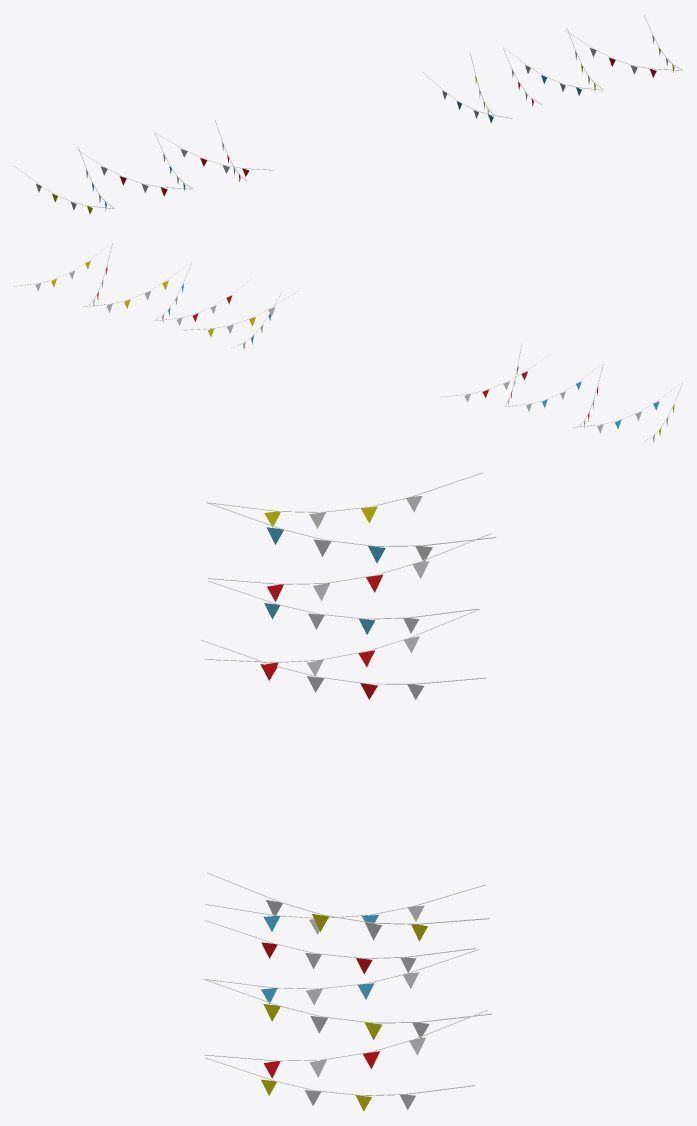
File: Flag_set01.fbx
3 renders of one model, top to bottom at view 1: azimuth 30°, elevation 25°; view 2: azimuth 150°, elevation 25°; view 3: azimuth 270°, elevation 25°, orthographic. The views are drawn at different scales.
Parts seen in each view (by area): view 1: Flag_set01; view 2: Flag_set01; view 3: Flag_set01.
Part boxes in pixels (box(x1,y1,x2,y2)): Flag_set01: box(14, 14, 682, 214); Flag_set01: box(14, 243, 682, 443); Flag_set01: box(201, 472, 496, 1111).
Bounding box in the file's own units: 2224 × 89.53 × 453.
